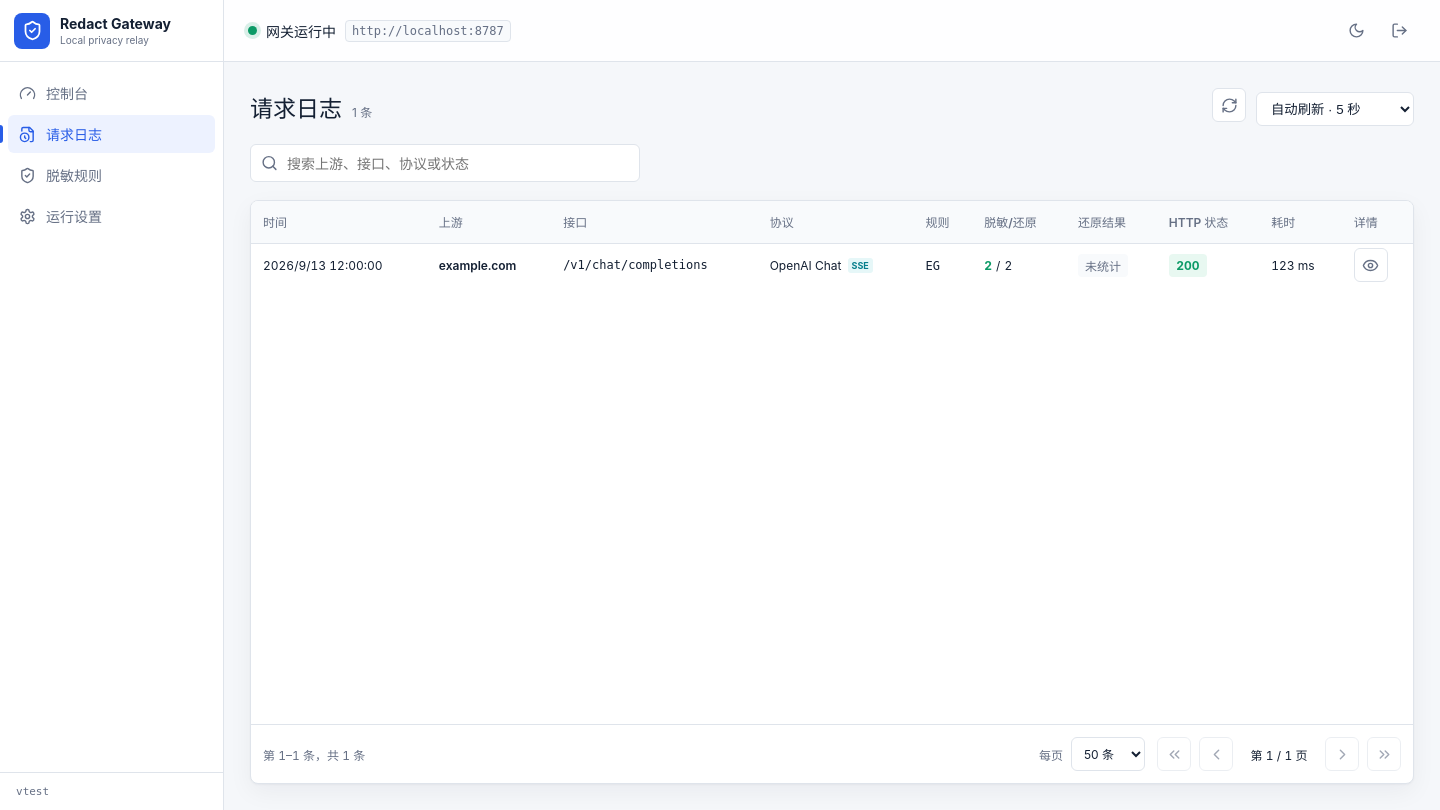
Test: App › does not invent diagnostic zeros for historical records
The image size is (1440, 810).
Click the button named "查看请求 request-one 的详情": (1371, 265) [1354, 248, 1388, 282]
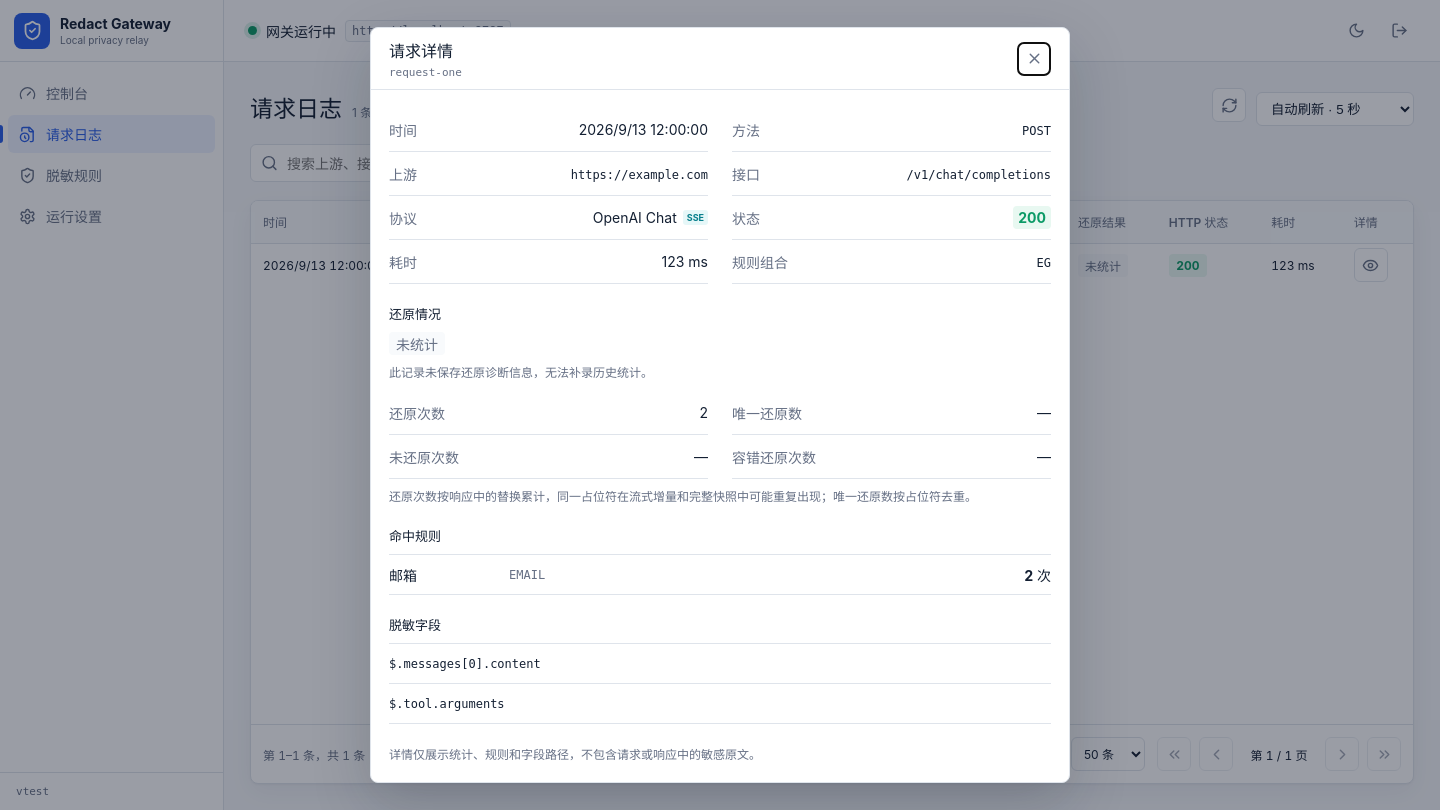
expect the text "此记录未保存还原诊断信息，无法补录历史统计。" is shown: met, box [389, 365, 653, 380]
expect the text "—" in the row of "未还原次数" is shown: met, box [694, 448, 708, 465]
